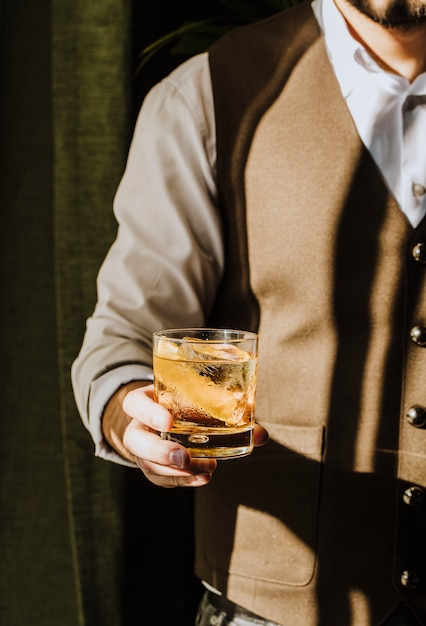alcohol: (148, 322, 260, 464)
